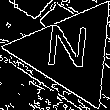N_S: (45, 25, 94, 79)
